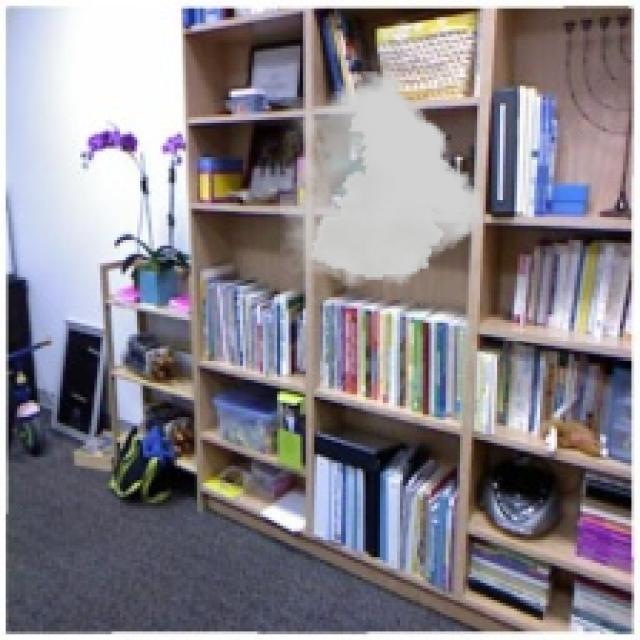smoke: (280, 72, 483, 288)
